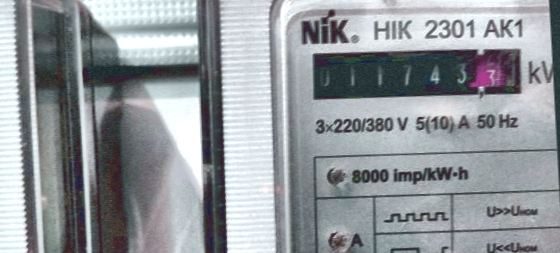0: (316, 58, 331, 86)
1: (343, 57, 358, 86), (371, 56, 386, 85)
3: (452, 56, 468, 84), (482, 64, 498, 86)
4: (426, 58, 442, 84)
7: (398, 58, 413, 84)
screen: (302, 34, 531, 110)
